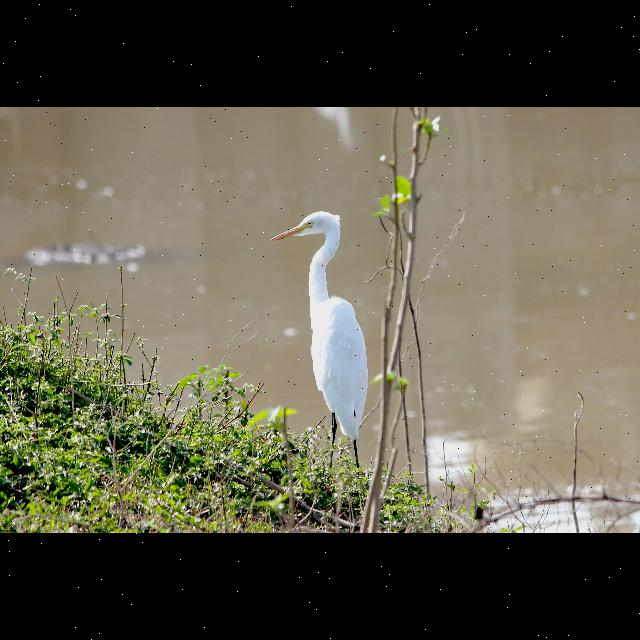egret: (262, 206, 372, 474)
